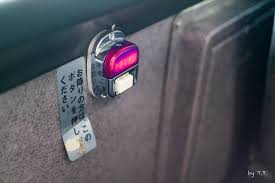bell: (89, 27, 144, 105)
